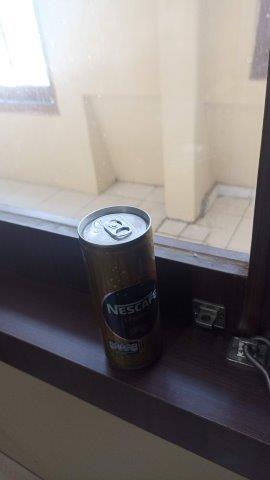kaleng: (76, 204, 165, 374)
